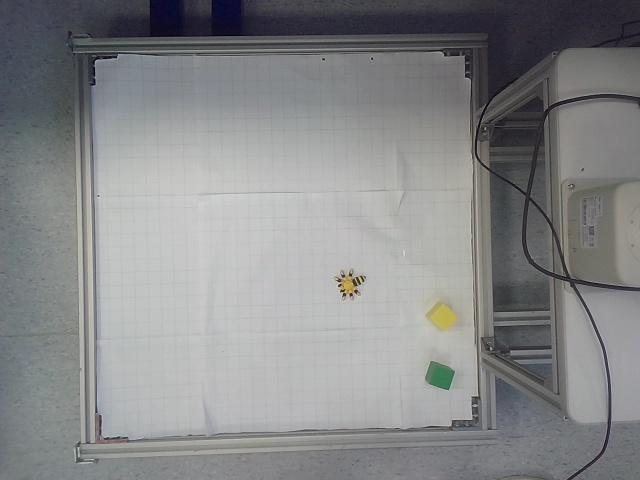frelon: (334, 268, 366, 301)
